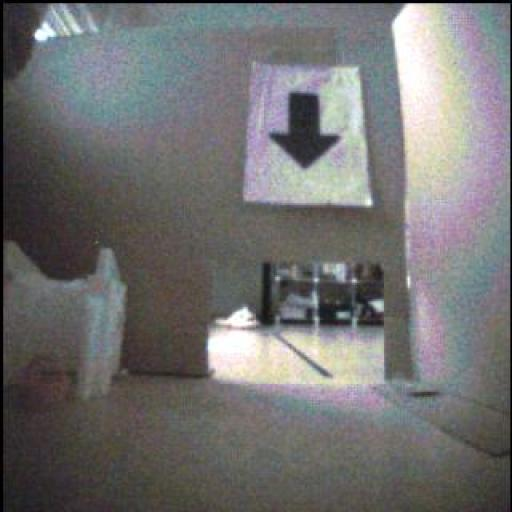arrow: (272, 94, 341, 169)
